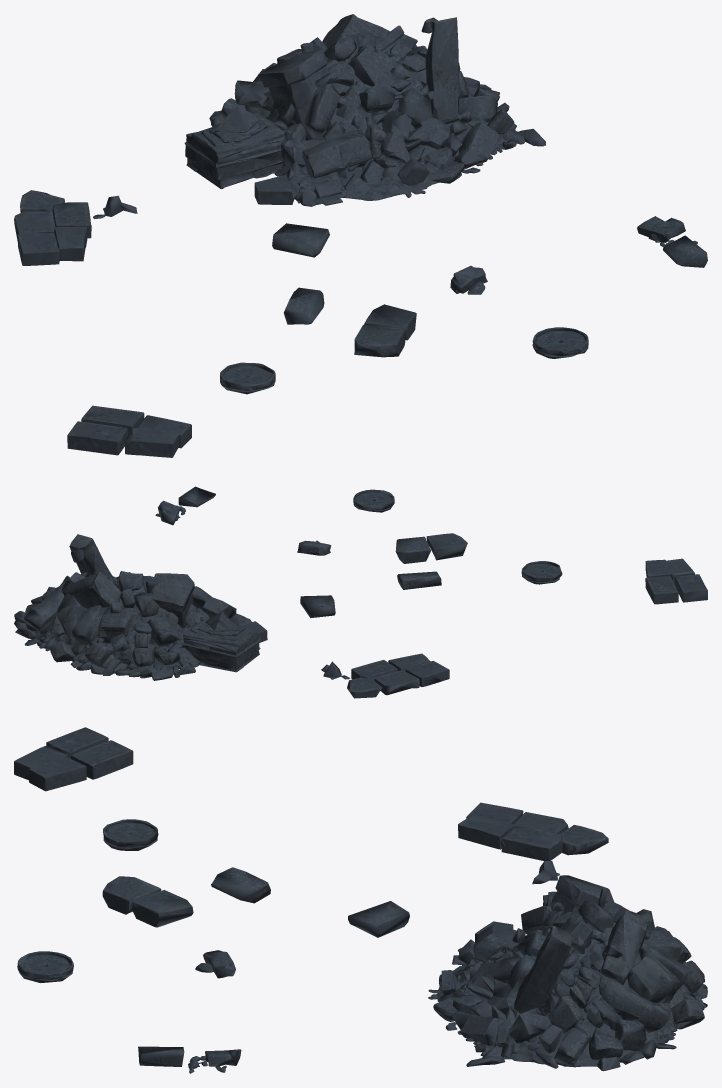
Rendered from mx_map_ruins.glb.
The picture shows the model from 3 angles, top to bottom: view 1: azimuth 30°, elevation 25°; view 2: azimuth 150°, elevation 25°; view 3: azimuth 270°, elevation 25°; orthographic projection. The views are drawn at different scales.
Size of the model in its own units: 1.89 by 0.2925 by 1.67.
1 material, 1 textured.
